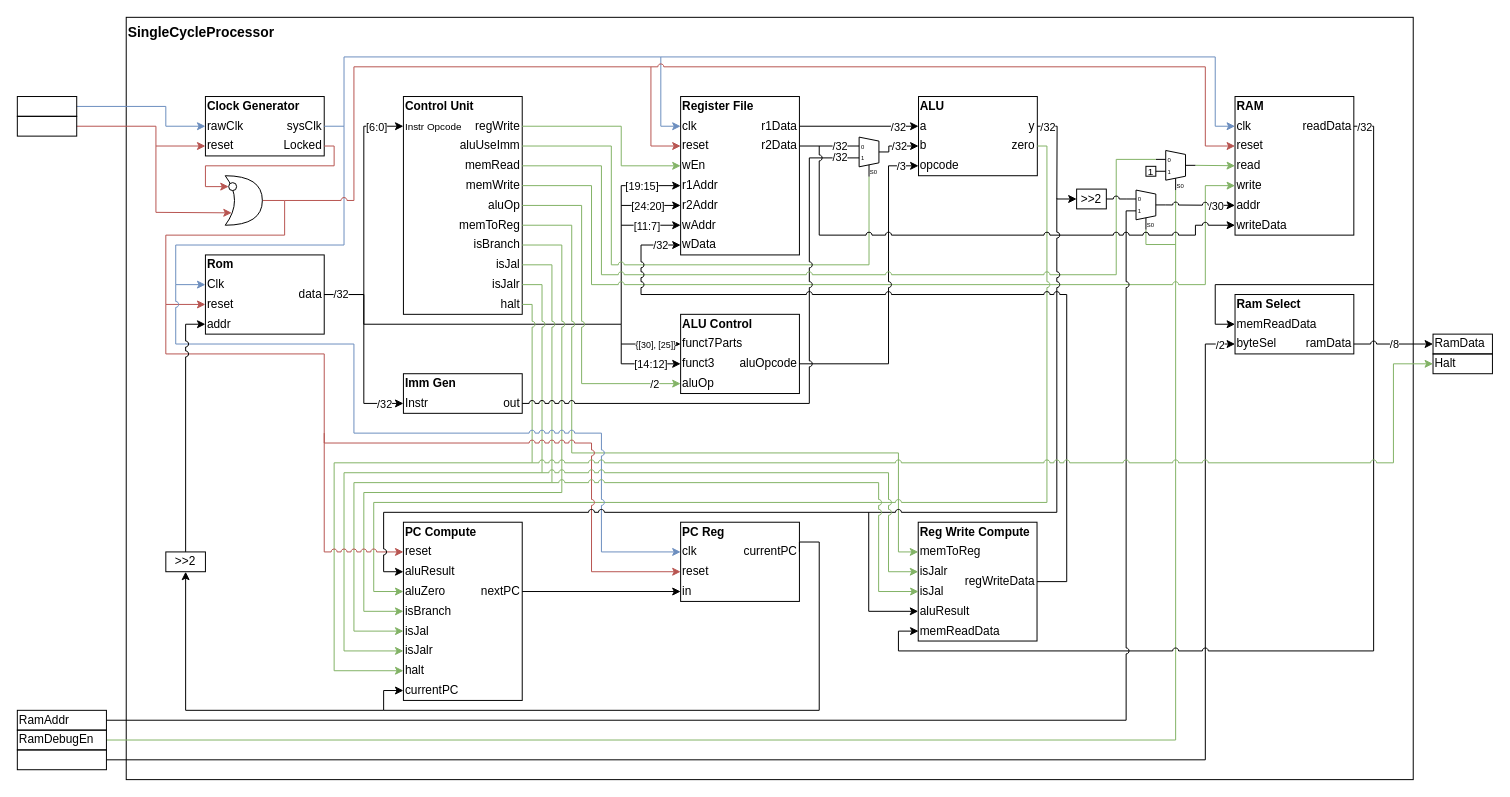
Some shapes in this 1510 by 797 pixel diagram are drawn without their labels. Here are the shapes that lost their labels. From the top down, the centre of each, then its label:
At [46,106]: "Raw Clk".
At [46,125]: "Ext Reset".
At [61,759]: "RamByteSel".
